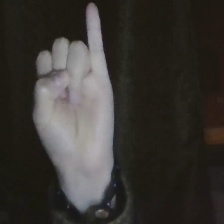I: (17, 1, 130, 166)
